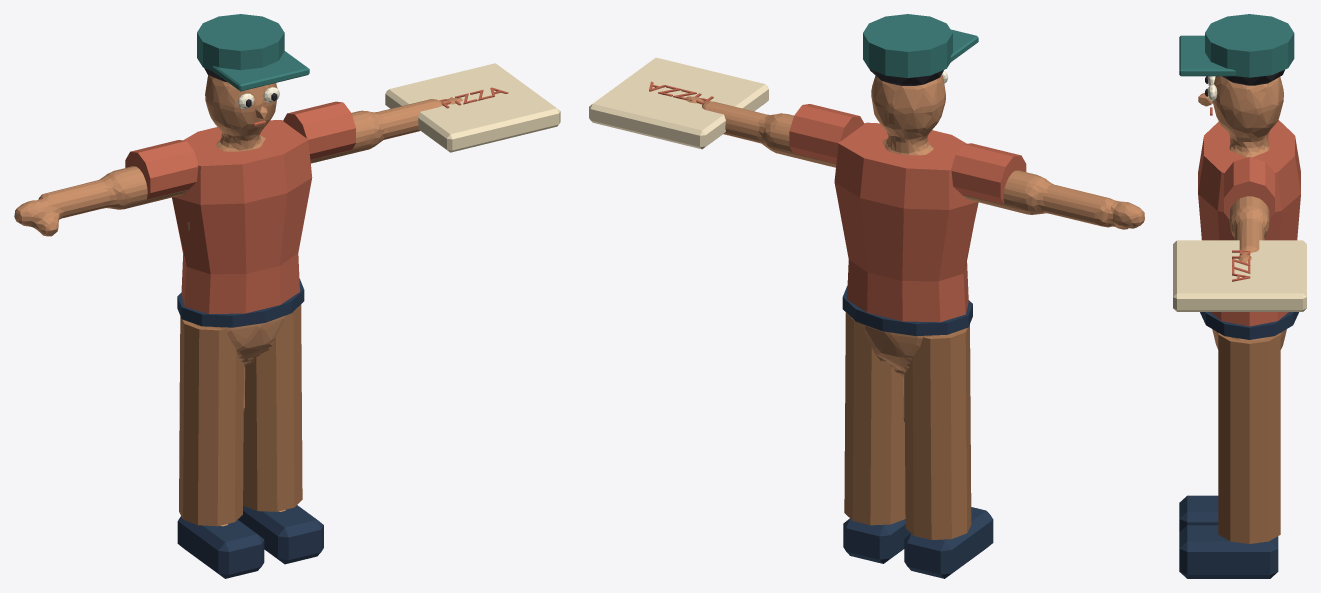
Rendered from Disguise_PizzaCourier.fbx.
3 views of the same model, side by side, from view 1: azimuth 30°, elevation 25°; view 2: azimuth 150°, elevation 25°; view 3: azimuth 270°, elevation 25° (orthographic). The views are drawn at different scales.
Visible parts, largest first — view 1: Disguise_PizzaCourier_Wearer_Shirt.001, Disguise_PizzaCourier_Wearer_PantsLeg.002, Disguise_PizzaCourier_Wearer_Civilian_02_Base_BaseMale_TPose, Disguise_PizzaCourier_Wearer_PantsLeg.003, PizzaBox, Disguise_PizzaCourier_Wearer_CapCrown, Disguise_PizzaCourier_Wearer_Shoe.002, Disguise_PizzaCourier_Wearer_Shoe.003, Disguise_PizzaCourier_Wearer_Sleeve.002, Disguise_PizzaCourier_Wearer_Sleeve.003, Disguise_PizzaCourier_Wearer_Belt.001, Disguise_PizzaCourier_Wearer_CapVisor; view 2: Disguise_PizzaCourier_Wearer_Shirt.001, Disguise_PizzaCourier_Wearer_Civilian_02_Base_BaseMale_TPose, Disguise_PizzaCourier_Wearer_PantsLeg.002, Disguise_PizzaCourier_Wearer_PantsLeg.003, PizzaBox, Disguise_PizzaCourier_Wearer_CapCrown, Disguise_PizzaCourier_Wearer_Shoe.002, Disguise_PizzaCourier_Wearer_Sleeve.002, Disguise_PizzaCourier_Wearer_Sleeve.003, Disguise_PizzaCourier_Wearer_Shoe.003, Disguise_PizzaCourier_Wearer_Belt.001; view 3: Disguise_PizzaCourier_Wearer_PantsLeg.003, PizzaBox, Disguise_PizzaCourier_Wearer_Shirt.001, Disguise_PizzaCourier_Wearer_Civilian_02_Base_BaseMale_TPose, Disguise_PizzaCourier_Wearer_CapCrown, Disguise_PizzaCourier_Wearer_Shoe.003, Disguise_PizzaCourier_Wearer_Sleeve.003, Disguise_PizzaCourier_Wearer_CapVisor, Disguise_PizzaCourier_Wearer_Belt.001, Disguise_PizzaCourier_Wearer_Shoe.002, Disguise_PizzaCourier_Wearer_HairCap.001, PizzaLogo.
Boxes of the visible parts, left/top/right/bottom form: Disguise_PizzaCourier_Wearer_Shirt.001: left=172, top=120, right=312, bottom=313; Disguise_PizzaCourier_Wearer_PantsLeg.002: left=179, top=316, right=243, bottom=526; Disguise_PizzaCourier_Wearer_Civilian_02_Base_BaseMale_TPose: left=14, top=75, right=462, bottom=526; Disguise_PizzaCourier_Wearer_PantsLeg.003: left=243, top=304, right=302, bottom=511; PizzaBox: left=385, top=63, right=560, bottom=152; Disguise_PizzaCourier_Wearer_CapCrown: left=197, top=14, right=284, bottom=71; Disguise_PizzaCourier_Wearer_Shoe.002: left=177, top=516, right=264, bottom=578; Disguise_PizzaCourier_Wearer_Shoe.003: left=238, top=505, right=323, bottom=564; Disguise_PizzaCourier_Wearer_Sleeve.002: left=125, top=140, right=198, bottom=199; Disguise_PizzaCourier_Wearer_Sleeve.003: left=283, top=101, right=355, bottom=160; Disguise_PizzaCourier_Wearer_Belt.001: left=177, top=278, right=304, bottom=327; Disguise_PizzaCourier_Wearer_CapVisor: left=212, top=51, right=309, bottom=91; Disguise_PizzaCourier_Wearer_Shirt.001: left=834, top=122, right=978, bottom=322; Disguise_PizzaCourier_Wearer_Civilian_02_Base_BaseMale_TPose: left=685, top=74, right=1144, bottom=422; Disguise_PizzaCourier_Wearer_PantsLeg.002: left=904, top=324, right=971, bottom=539; Disguise_PizzaCourier_Wearer_PantsLeg.003: left=844, top=312, right=905, bottom=525; PizzaBox: left=589, top=57, right=768, bottom=149; Disguise_PizzaCourier_Wearer_CapCrown: left=863, top=14, right=952, bottom=77; Disguise_PizzaCourier_Wearer_Shoe.002: left=904, top=507, right=993, bottom=578; Disguise_PizzaCourier_Wearer_Sleeve.002: left=951, top=143, right=1026, bottom=204; Disguise_PizzaCourier_Wearer_Sleeve.003: left=789, top=104, right=864, bottom=163; Disguise_PizzaCourier_Wearer_Shoe.003: left=843, top=518, right=910, bottom=563; Disguise_PizzaCourier_Wearer_Belt.001: left=842, top=286, right=972, bottom=336; Disguise_PizzaCourier_Wearer_PantsLeg.003: left=1218, top=333, right=1280, bottom=543; PizzaBox: left=1173, top=240, right=1306, bottom=311; Disguise_PizzaCourier_Wearer_Shirt.001: left=1198, top=120, right=1300, bottom=326; Disguise_PizzaCourier_Wearer_Civilian_02_Base_BaseMale_TPose: left=1212, top=76, right=1286, bottom=349; Disguise_PizzaCourier_Wearer_CapCrown: left=1205, top=14, right=1294, bottom=77; Disguise_PizzaCourier_Wearer_Shoe.003: left=1179, top=525, right=1278, bottom=578; Disguise_PizzaCourier_Wearer_Sleeve.003: left=1224, top=157, right=1274, bottom=219; Disguise_PizzaCourier_Wearer_CapVisor: left=1179, top=35, right=1235, bottom=76; Disguise_PizzaCourier_Wearer_Belt.001: left=1200, top=312, right=1298, bottom=339; Disguise_PizzaCourier_Wearer_Shoe.002: left=1179, top=495, right=1218, bottom=531; Disguise_PizzaCourier_Wearer_HairCap.001: left=1222, top=70, right=1284, bottom=85; PizzaLogo: left=1232, top=250, right=1250, bottom=281.
Size of the model in its own units: 1.89 by 1.82 by 0.42.
